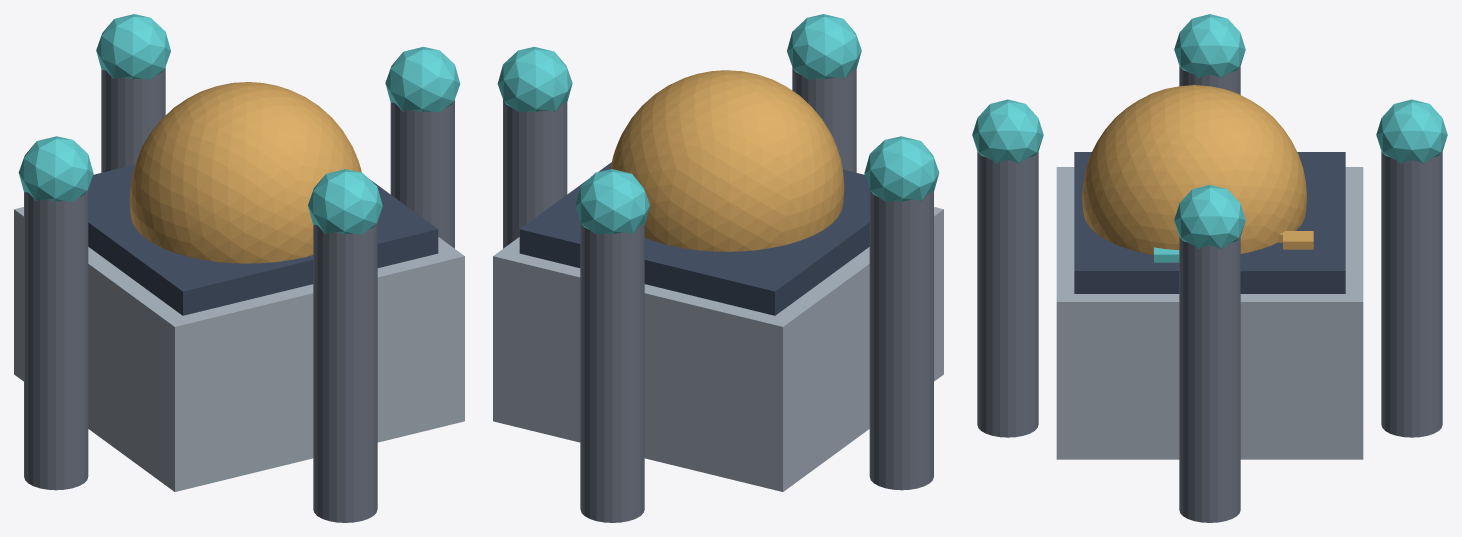
Rendered from expansor-extras-elite.glb.
3 views of the same model, side by side, from view 1: azimuth 30°, elevation 25°; view 2: azimuth 150°, elevation 25°; view 3: azimuth 270°, elevation 25° (orthographic). The views are drawn at different scales.
Visible parts, largest first — view 1: part000, part002, part006, part008, part001, part004, part010, part005, part007, part011, part009; view 2: part000, part002, part010, part008, part001, part004, part005, part011, part007, part009, part006; view 3: part000, part002, part006, part010, part004, part001, part007, part011, part009, part005, part008, part019.
Boxes of the visible parts, x1,y1,x2,y2 form: part000: (14, 207, 464, 491); part002: (129, 82, 361, 263); part006: (313, 221, 377, 522); part008: (24, 189, 88, 490); part001: (88, 164, 438, 315); part004: (390, 100, 454, 248); part010: (101, 67, 165, 172); part005: (385, 46, 460, 112); part007: (308, 169, 382, 234); part011: (96, 14, 170, 79); part009: (18, 136, 93, 201); part000: (493, 207, 943, 491); part002: (610, 70, 844, 251); part010: (580, 221, 644, 522); part008: (869, 189, 933, 490); part001: (519, 162, 869, 315); part004: (503, 100, 567, 248); part005: (497, 46, 572, 112); part011: (575, 169, 649, 234); part007: (787, 14, 861, 79); part009: (864, 136, 939, 201); part006: (792, 67, 856, 172); part000: (1056, 167, 1363, 459); part002: (1082, 85, 1306, 254); part006: (977, 151, 1038, 437); part010: (1381, 151, 1442, 437); part004: (1179, 237, 1240, 522); part001: (1074, 152, 1345, 293); part007: (972, 99, 1043, 163); part011: (1376, 99, 1447, 163); part009: (1174, 14, 1245, 78); part005: (1174, 185, 1245, 248); part008: (1179, 66, 1240, 94); part019: (1283, 231, 1313, 249).
Bounding box in the file's own units: 1.86 × 1.42 × 1.86.
